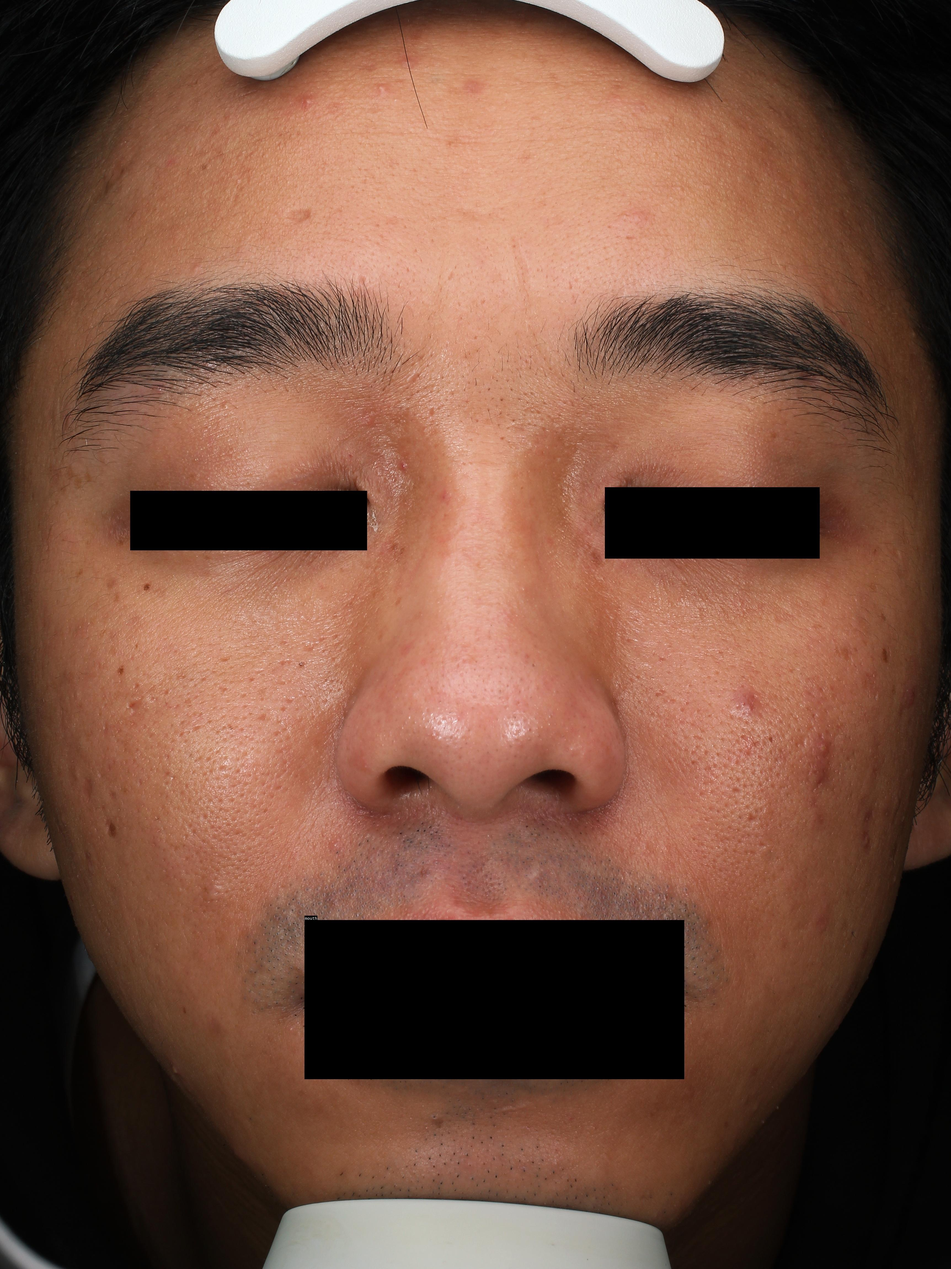atrophic_scar: (63, 733, 94, 795), (284, 208, 312, 225), (403, 369, 424, 391), (81, 778, 94, 803), (409, 350, 426, 367), (794, 731, 810, 749), (886, 544, 902, 562), (128, 696, 145, 710), (861, 830, 872, 851), (746, 811, 761, 826), (300, 641, 317, 653), (96, 764, 107, 781), (189, 724, 204, 735), (107, 788, 118, 801), (864, 807, 873, 822), (159, 769, 171, 780), (158, 687, 169, 699), (447, 269, 456, 282), (730, 787, 744, 795), (623, 233, 637, 241), (218, 656, 232, 664), (357, 274, 367, 285), (627, 675, 637, 685), (654, 689, 665, 698), (741, 734, 752, 743), (255, 713, 267, 721), (285, 696, 295, 704), (132, 681, 140, 691), (218, 686, 228, 694), (278, 659, 291, 665), (429, 406, 436, 417), (758, 839, 766, 848), (247, 676, 256, 683), (568, 280, 574, 290), (279, 705, 289, 711), (136, 779, 144, 786), (691, 736, 705, 740), (147, 695, 155, 702), (103, 721, 108, 732), (659, 656, 668, 662), (680, 706, 685, 713)
closed_comedo: (632, 210, 645, 223), (329, 840, 340, 849), (662, 113, 672, 122), (641, 841, 649, 852), (675, 185, 684, 192), (704, 184, 714, 190), (192, 265, 199, 273), (753, 1104, 760, 1112), (615, 95, 622, 102), (205, 164, 211, 171), (731, 615, 737, 620), (737, 601, 742, 607), (653, 151, 658, 156), (236, 178, 241, 183), (521, 586, 526, 591), (623, 214, 628, 218), (289, 1027, 294, 1031)
hypertrophic_scar: (520, 863, 542, 890), (204, 884, 228, 902), (497, 1102, 528, 1115)
melasma: (47, 462, 63, 488), (588, 544, 604, 566), (388, 540, 406, 558), (833, 645, 851, 661), (104, 574, 119, 589), (81, 466, 94, 483), (65, 463, 76, 482), (73, 473, 84, 489), (881, 648, 890, 666), (59, 479, 68, 494), (74, 567, 84, 579), (768, 430, 778, 440), (395, 595, 404, 605), (880, 611, 888, 622), (116, 538, 126, 546), (114, 592, 121, 603)
nevus: (431, 1116, 444, 1128), (117, 665, 125, 677), (143, 582, 152, 592), (181, 1006, 187, 1014), (298, 661, 305, 667)
open_comedo: (222, 404, 229, 410), (530, 662, 537, 668)
other: (509, 233, 536, 309), (283, 205, 316, 227), (496, 1103, 528, 1114), (105, 820, 118, 840)
papule: (736, 689, 761, 715), (807, 767, 828, 789), (812, 914, 829, 932), (814, 739, 830, 756), (904, 687, 917, 707), (400, 57, 415, 67), (153, 384, 166, 394), (366, 418, 375, 428), (303, 97, 312, 105), (399, 461, 407, 470), (377, 85, 384, 91)
pustule: (169, 1059, 184, 1078)
